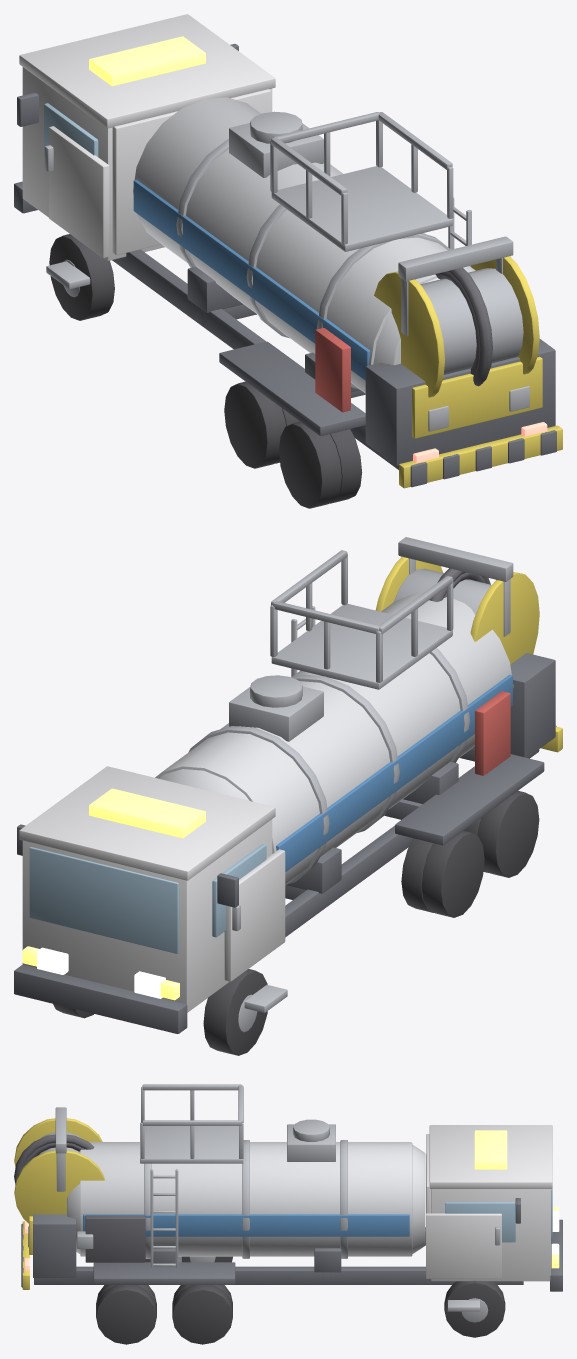
File: th25_tankwagen.glb
3 renders of one model, top to bottom at view 1: azimuth 30°, elevation 25°; view 2: azimuth 150°, elevation 25°; view 3: azimuth 270°, elevation 25°, orthographic. The views are drawn at different scales.
Parts seen in each view (by area): view 1: Cylinder, Cube.007, Cube.053, Cube.032, Cube.029, Cylinder.005, Cube.010, Cube.071, Cube.054, Cube.006, Cube.023, Cylinder.006 (+24 smaller); view 2: Cylinder, Cube.007, Cube.006, Cube.008, Cube.032, Cube.029, Cube.071, Cube.021, Cube.010, Cube.053, Cylinder.013, Cylinder.019 (+25 smaller); view 3: Cylinder, Cube.007, Cube.030, Cube.006, Cube.016, Cube.001, Cylinder.007, Cube.032, Cube.072, Cylinder.016, Cylinder.022, Cube.060 (+26 smaller).
Part boxes in pixels (bbox=[...]): Cylinder: bbox=[133, 97, 475, 393]; Cube.007: bbox=[19, 14, 275, 128]; Cube.053: bbox=[365, 339, 555, 465]; Cube.032: bbox=[271, 166, 452, 251]; Cube.029: bbox=[133, 180, 370, 380]; Cylinder.005: bbox=[420, 268, 523, 374]; Cube.010: bbox=[49, 126, 109, 257]; Cube.071: bbox=[219, 341, 365, 435]; Cube.054: bbox=[412, 356, 542, 438]; Cube.006: bbox=[22, 67, 272, 260]; Cube.023: bbox=[112, 89, 271, 255]; Cylinder.006: bbox=[374, 271, 444, 397]; Cylinder: bbox=[155, 592, 513, 884]; Cube.007: bbox=[19, 766, 275, 880]; Cube.006: bbox=[22, 819, 272, 1012]; Cube.008: bbox=[29, 847, 178, 953]; Cube.032: bbox=[271, 604, 452, 689]; Cube.029: bbox=[276, 674, 512, 871]; Cube.071: bbox=[395, 754, 544, 845]; Cube.021: bbox=[14, 964, 187, 1033]; Cube.010: bbox=[224, 849, 285, 981]; Cube.053: bbox=[474, 653, 555, 757]; Cylinder.013: bbox=[421, 831, 484, 917]; Cylinder.019: bbox=[477, 790, 539, 877]; Cylinder: bbox=[80, 1142, 412, 1256]; Cube.007: bbox=[429, 1125, 552, 1188]; Cube.030: bbox=[83, 1214, 409, 1236]; Cube.006: bbox=[431, 1189, 550, 1281]; Cube.016: bbox=[426, 1213, 501, 1278]; Cube.001: bbox=[34, 1266, 523, 1284]; Cylinder.007: bbox=[14, 1150, 104, 1223]; Cube.032: bbox=[140, 1122, 243, 1163]; Cube.072: bbox=[93, 1262, 235, 1284]; Cylinder.016: bbox=[172, 1285, 232, 1344]; Cylinder.022: bbox=[96, 1285, 156, 1344]; Cube.060: bbox=[85, 1215, 145, 1262].
Bounding box in the file's own units: 3.32 × 4.16 × 10.09.
